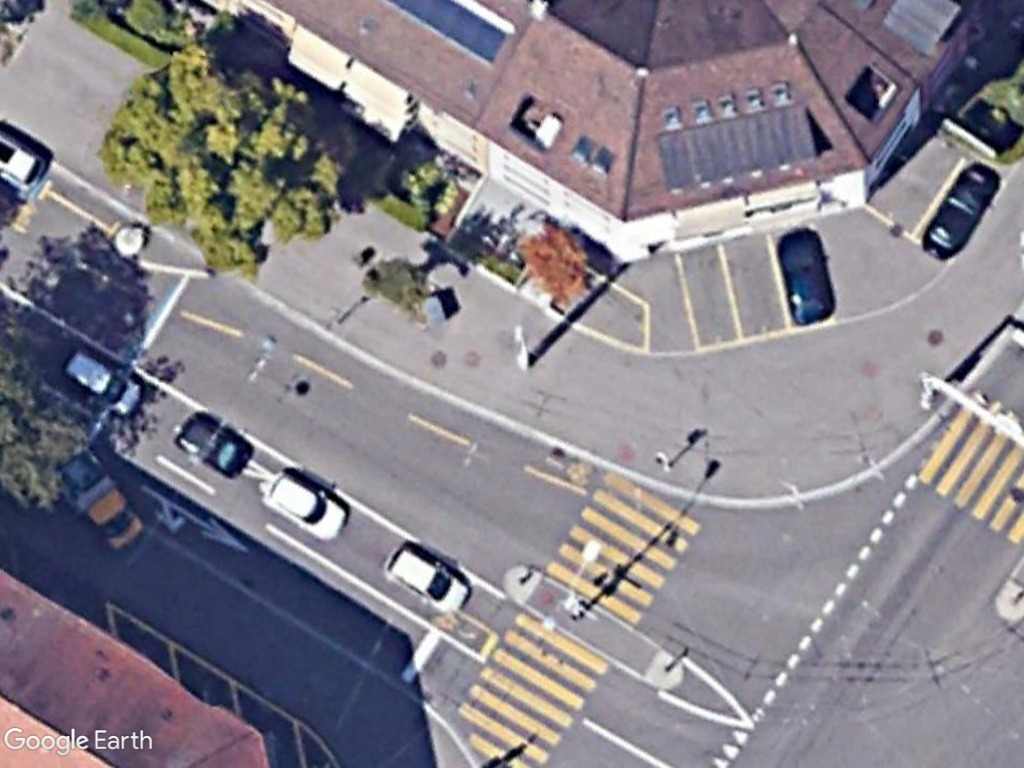car: (919, 164, 996, 262), (382, 543, 475, 618), (262, 467, 352, 543), (62, 344, 147, 420)
